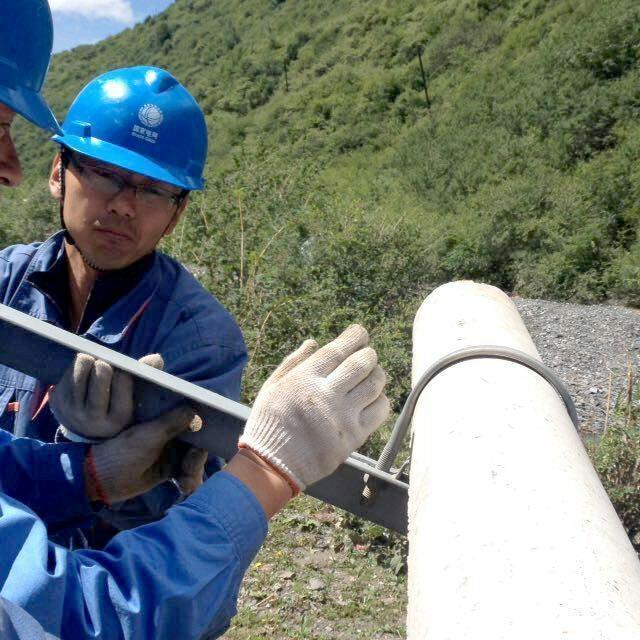Gloves: (232, 320, 394, 496), (89, 408, 204, 501), (51, 353, 167, 440)
Hardhat: (49, 63, 207, 191)
NO-Mask: (67, 208, 159, 270)
NO-Safety Vest: (0, 245, 224, 640)
Person: (0, 0, 390, 640), (0, 63, 250, 640), (0, 276, 150, 640)
